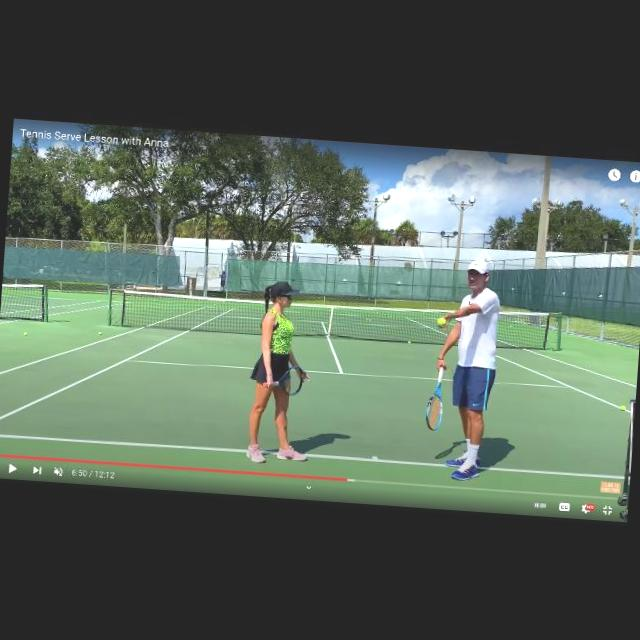tennis-ball: (620, 406, 624, 410), (24, 332, 26, 336), (408, 340, 410, 342), (98, 332, 100, 334)
